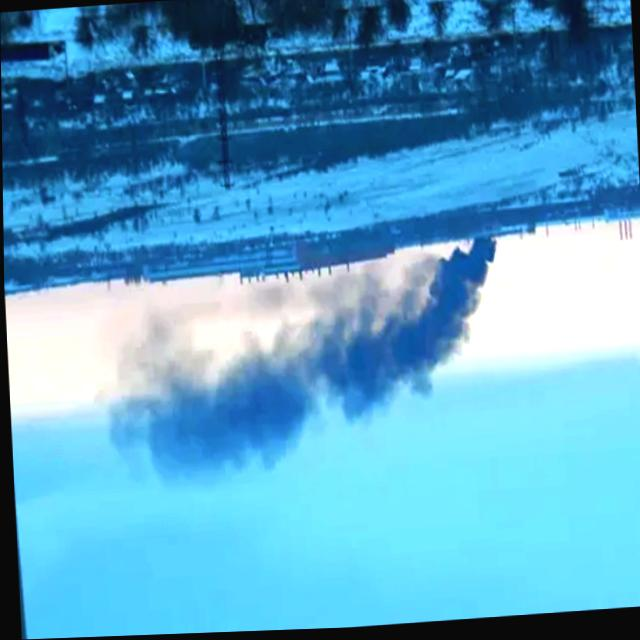no_helmet: (114, 240, 504, 487)
